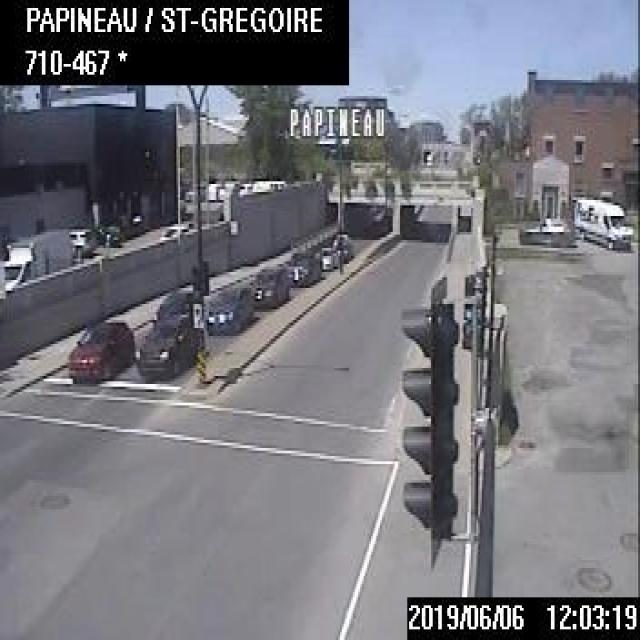vehicle: (134, 312, 209, 374), (0, 227, 70, 292), (66, 317, 134, 379), (574, 195, 632, 248), (204, 282, 251, 328), (518, 214, 578, 248), (250, 264, 288, 306), (150, 289, 196, 319), (285, 249, 323, 283), (68, 227, 94, 261), (158, 221, 188, 241), (332, 233, 354, 260), (316, 245, 338, 268)
